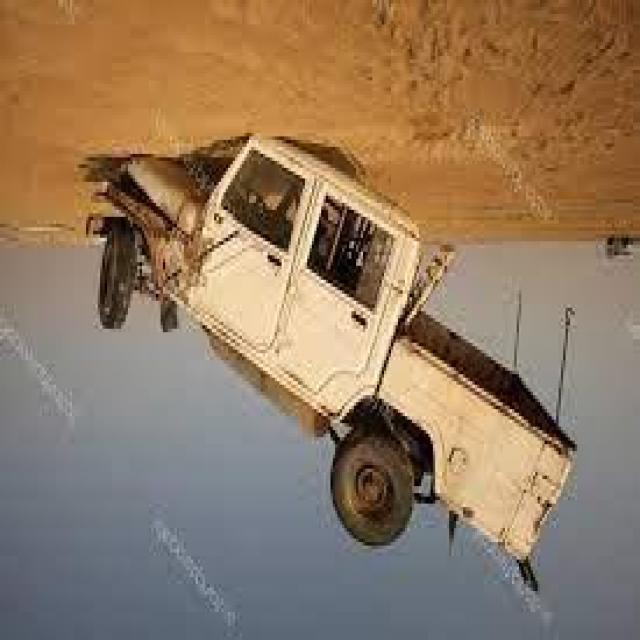severe: (85, 129, 581, 591)
